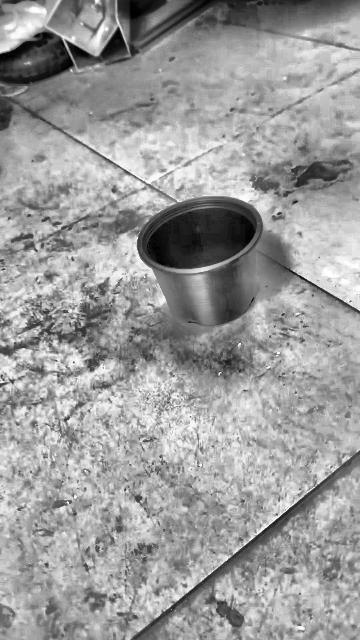pot: (137, 197, 263, 325)
